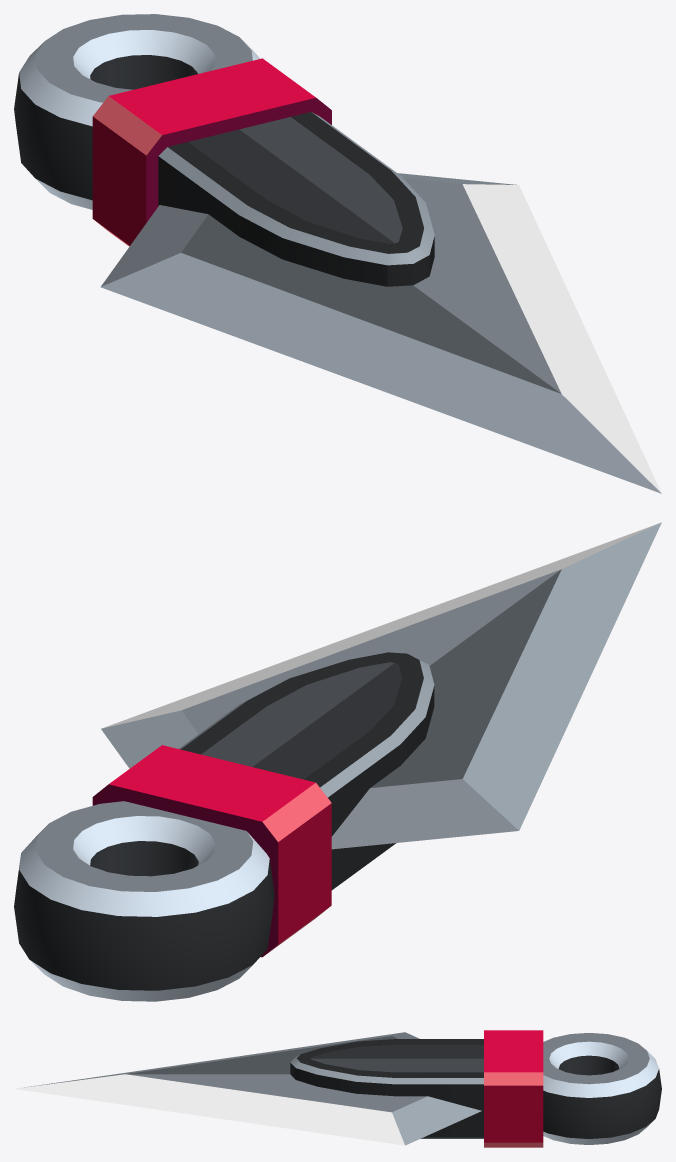
Rendered from Kunai.fbx.
3 renders of one model, top to bottom at view 1: azimuth 30°, elevation 25°; view 2: azimuth 150°, elevation 25°; view 3: azimuth 270°, elevation 25°, orthographic. The views are drawn at different scales.
Visible parts, largest first — view 1: Kunai; view 2: Kunai; view 3: Kunai.
Part boxes in pixels (x1,y1,x2,y2): Kunai: [14, 14, 661, 493]; Kunai: [14, 522, 661, 1001]; Kunai: [15, 1030, 661, 1147].
Bounding box in the file's own units: 41.39 × 12.81 × 99.87.
